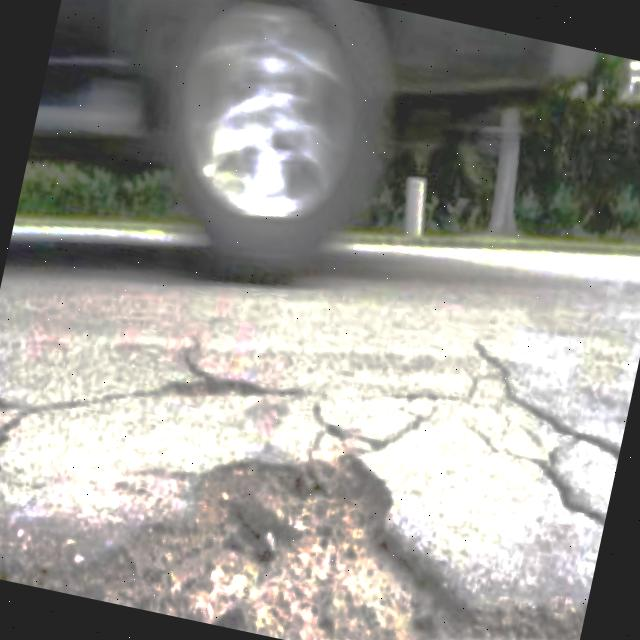pothole: (0, 371, 498, 640), (457, 559, 590, 640)
